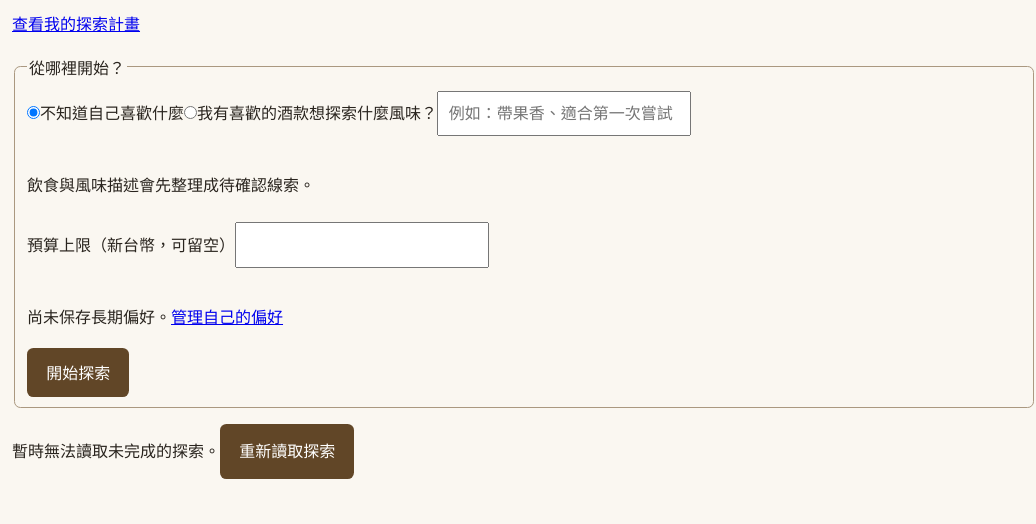
unfinished task read failures remain visible and retry without creating a plan
The image size is (1036, 524).
Check: the message shows "暫時無法讀取未完成的探索", box [12,440,220,462]
Click the button "重新讀取探索": click(287, 451) [220,424,354,478]
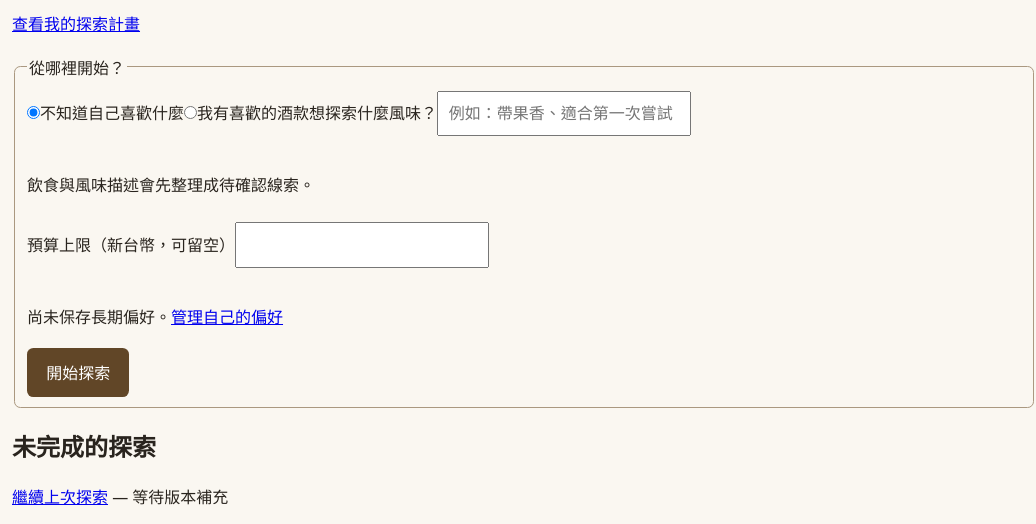
Check: the link "繼續上次探索" is shown, box [12,486,108,508]
Check: the message "暫時無法讀取未完成的探索。 重新讀取探索" is gone
